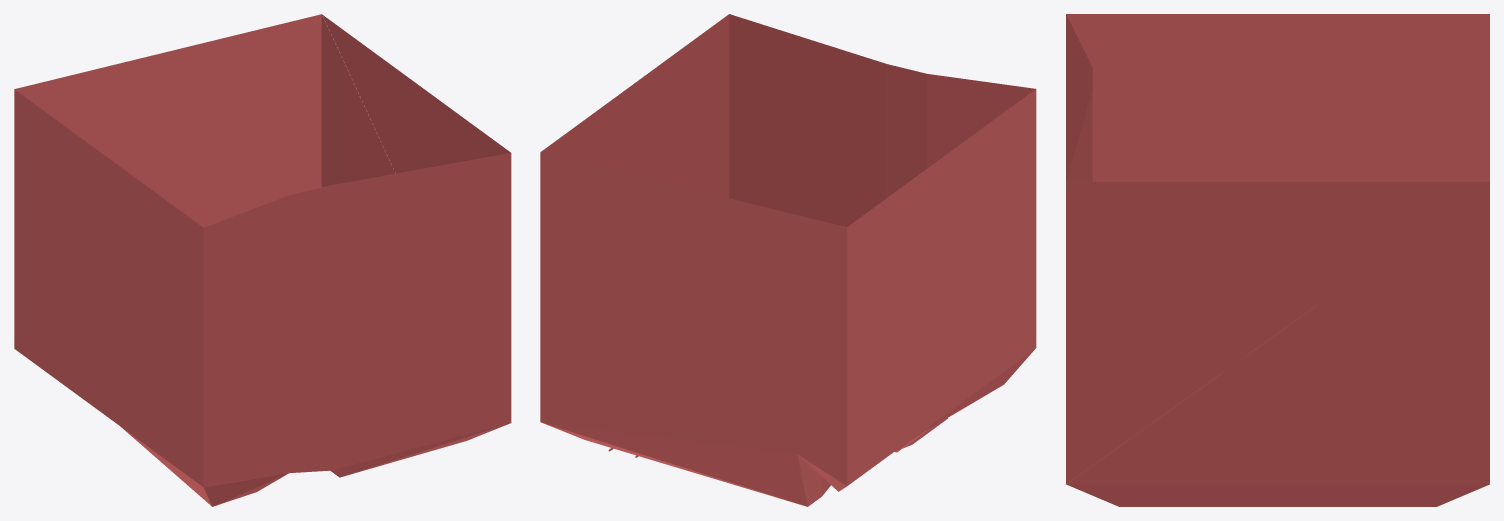
File: snow_land.glb
3 renders of one model, left to right at view 1: azimuth 30°, elevation 25°; view 2: azimuth 150°, elevation 25°; view 3: azimuth 270°, elevation 25°, orthographic. The views are drawn at different scales.
Parts seen in each view (by area): view 1: snow_land_col; view 2: snow_land_col; view 3: snow_land_col.
Part boxes in pixels (left/top/right/bottom): snow_land_col: left=14, top=14, right=511, bottom=506; snow_land_col: left=540, top=14, right=1036, bottom=506; snow_land_col: left=1065, top=14, right=1489, bottom=506.
Bounding box in the file's own units: 15 × 14.71 × 16.04.
